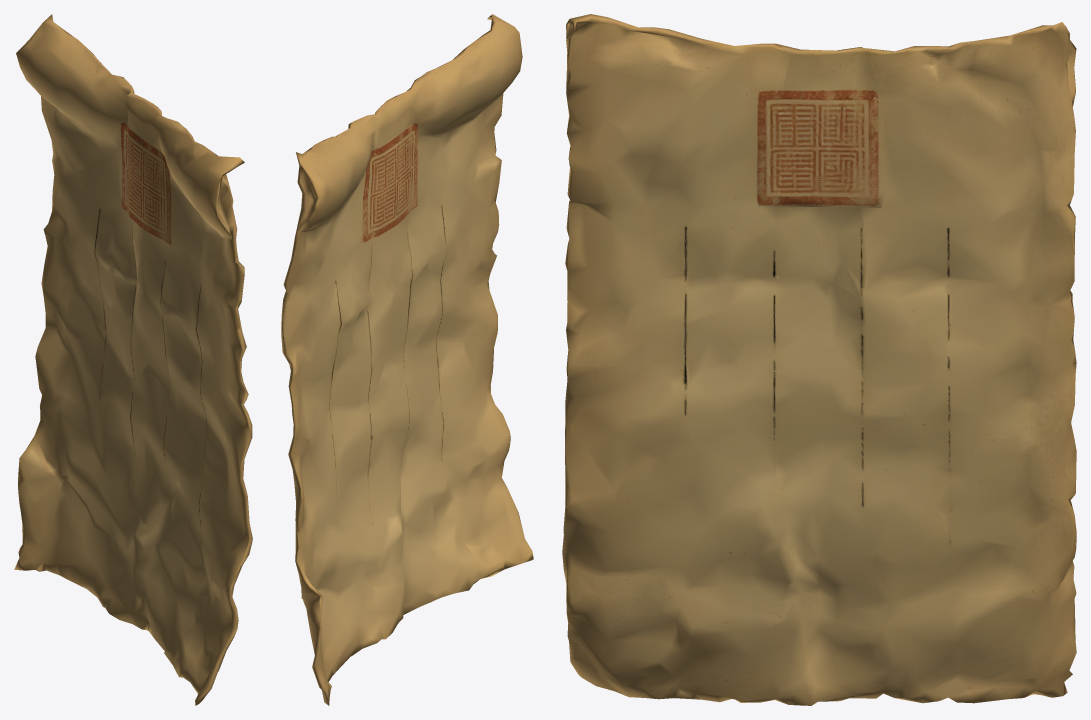
File: pass.glb
3 renders of one model, left to right at view 1: azimuth 30°, elevation 25°; view 2: azimuth 150°, elevation 25°; view 3: azimuth 270°, elevation 25°, orthographic. The views are drawn at different scales.
Parts seen in each view (by area): view 1: tripo_node_117fd2cd-d03d-4d02-8a02-a474bcf9ea82; view 2: tripo_node_117fd2cd-d03d-4d02-8a02-a474bcf9ea82; view 3: tripo_node_117fd2cd-d03d-4d02-8a02-a474bcf9ea82.
Boxes of the visible parts, box(x1,y1,x2,y2) form: tripo_node_117fd2cd-d03d-4d02-8a02-a474bcf9ea82: box(14, 14, 252, 705); tripo_node_117fd2cd-d03d-4d02-8a02-a474bcf9ea82: box(281, 14, 533, 705); tripo_node_117fd2cd-d03d-4d02-8a02-a474bcf9ea82: box(562, 14, 1076, 705).
Bounding box in the file's own units: 0.12 × 1 × 0.6729.
1 material, 1 textured.
